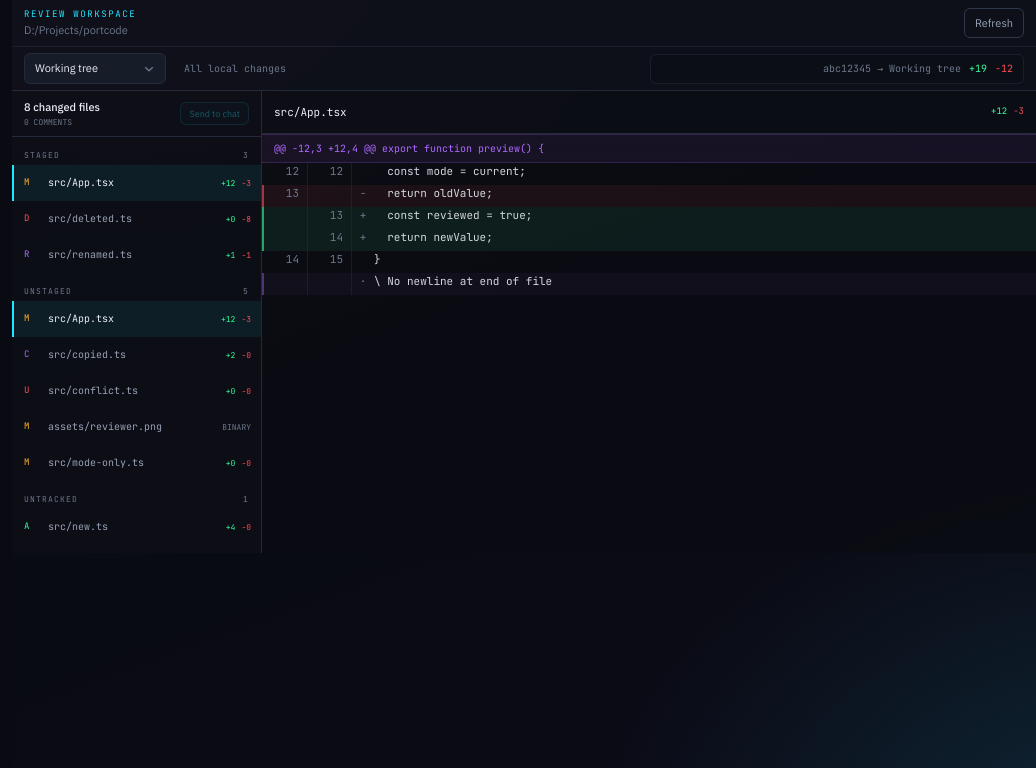
Test: ReviewWorkspace › loads selected files lazily and renders rename, binary, and metadata-only states
This screenshot has width=1036, height=768.
Check: the table named "src/App.tsx" is shown, box [262, 134, 1035, 327]
Click the button "R src/renamed.ts +1 −1" at (136, 254), box [12, 236, 261, 272]
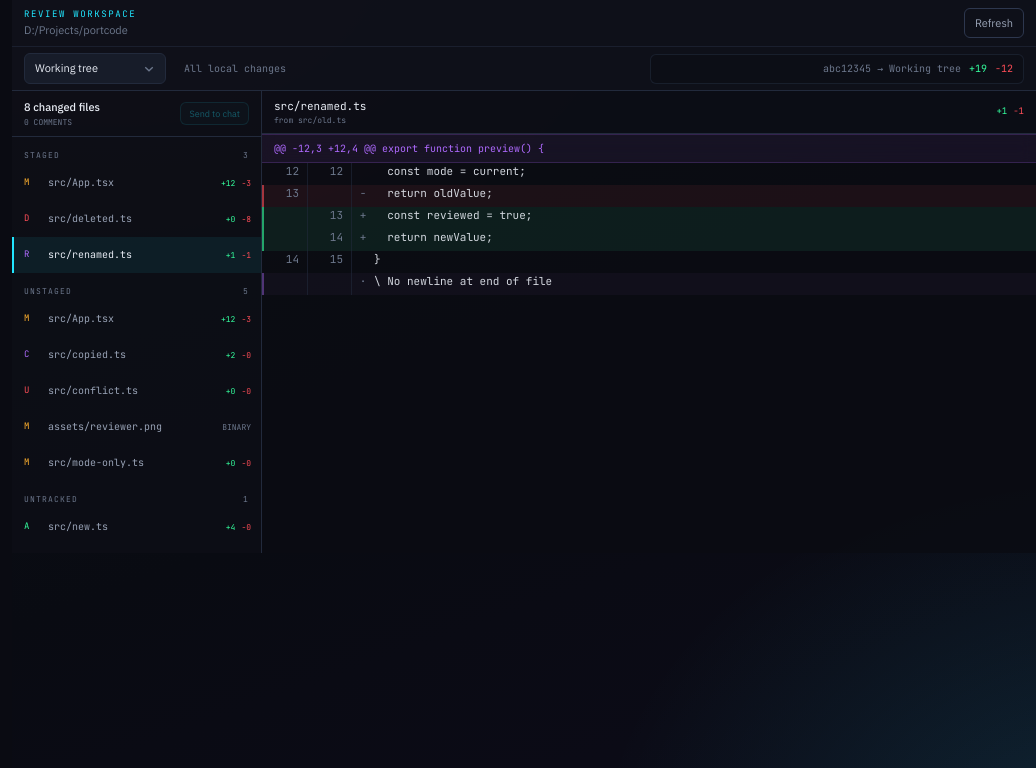
Check: the text "from src/old.ts" is shown, box [274, 115, 346, 125]
Click the button "M assets/reviewer.png binary" at (136, 426), box [12, 408, 261, 444]
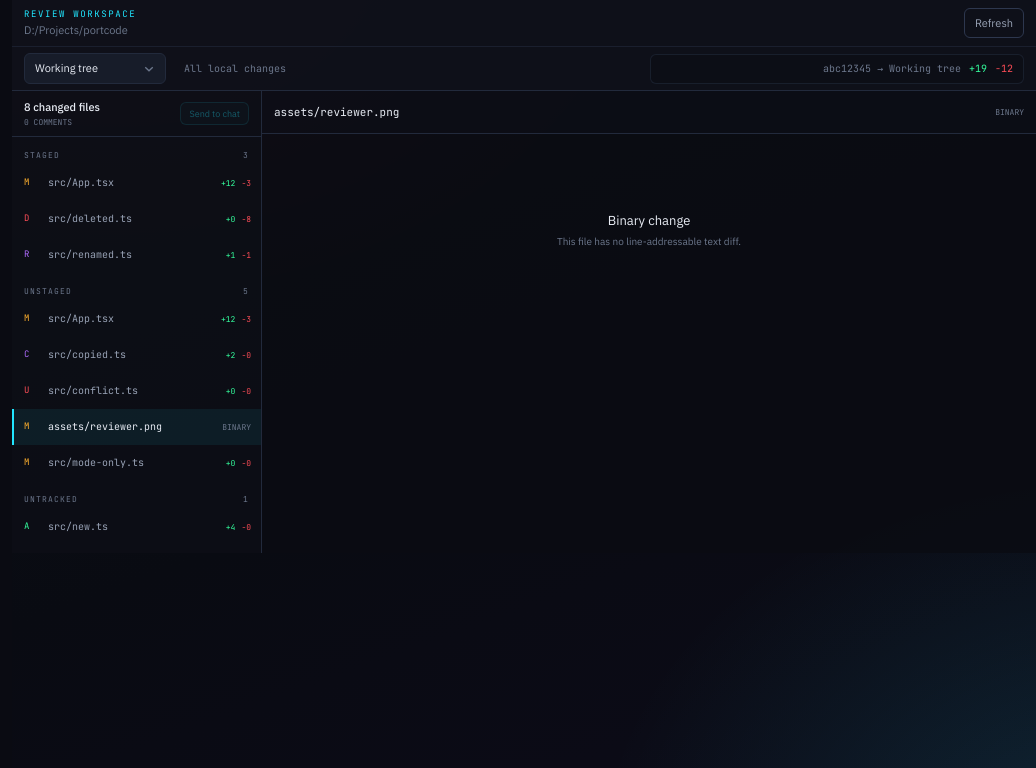
Check: the text "Binary change" is shown, box [608, 212, 690, 229]
Click the button "M src/mode-only.ts +0 −0" at (136, 462), box [12, 444, 261, 480]
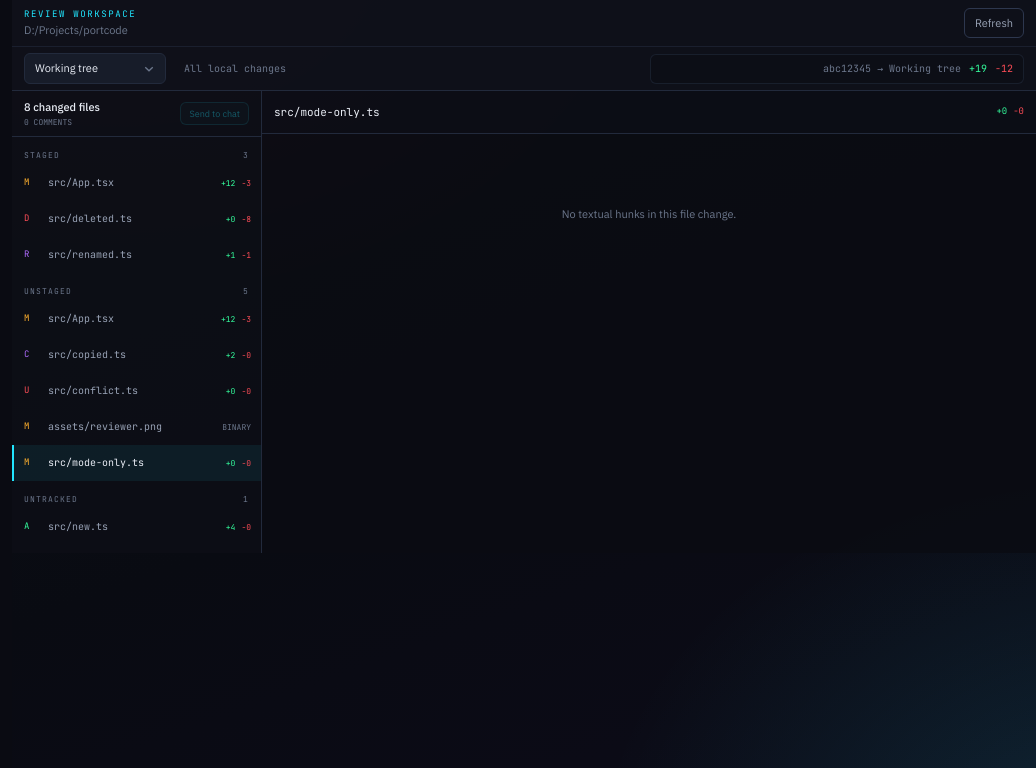
Check: the text "No textual hunks in this file change." is shown, box [562, 207, 736, 221]
